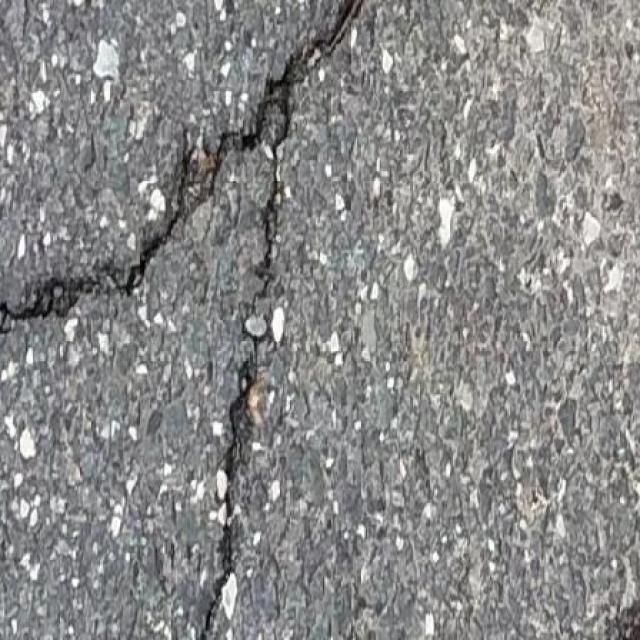Crack: (0, 0, 368, 332), (200, 361, 252, 639), (606, 611, 640, 639)
